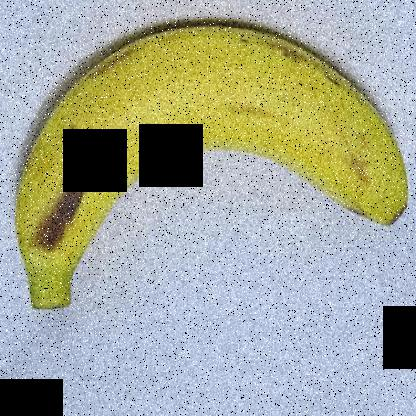freshripe: (6, 1, 416, 321)
